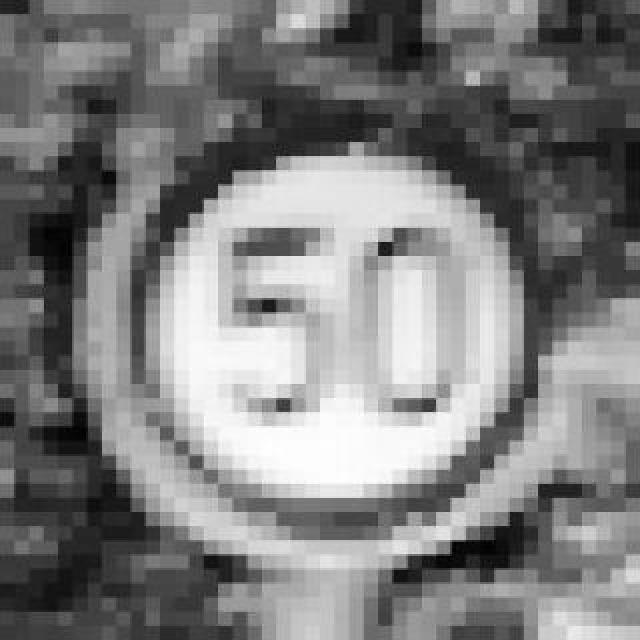50 kph: (44, 72, 538, 542)
